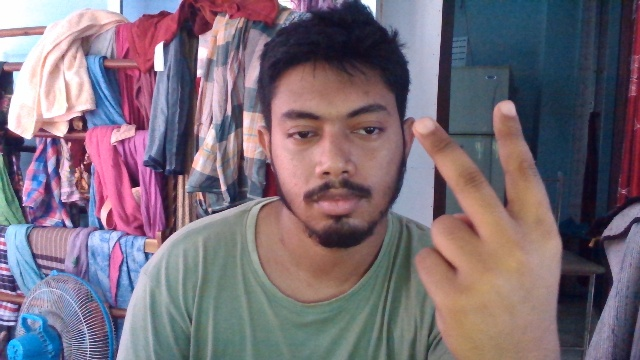thanks: (408, 98, 565, 354)
